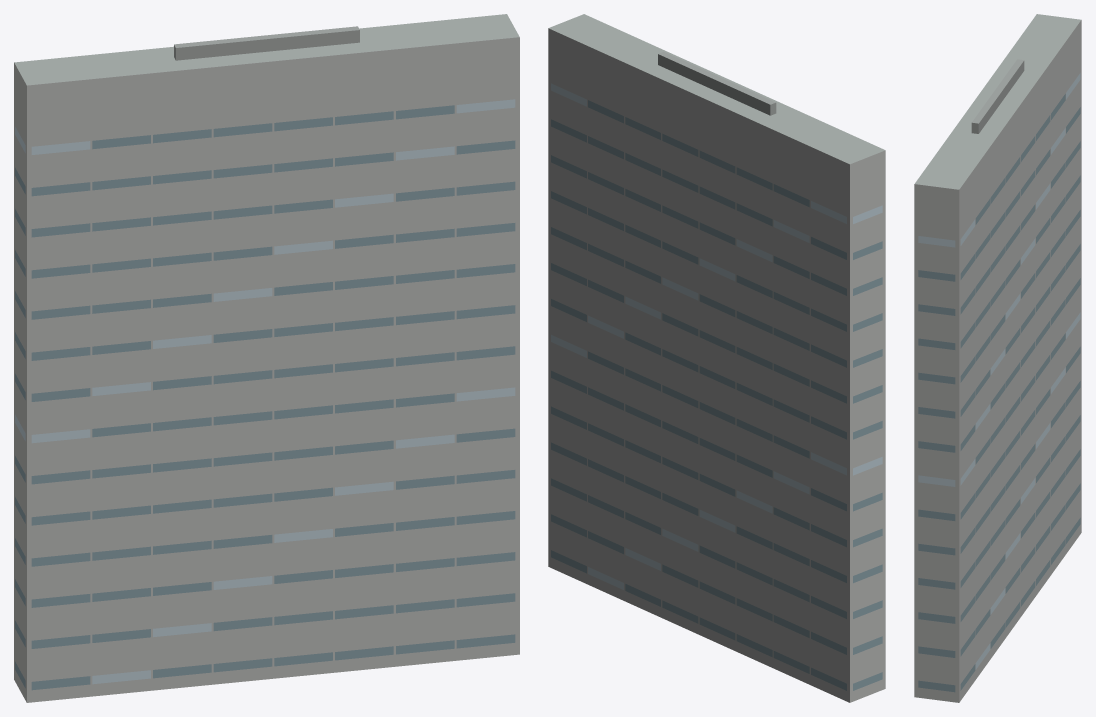
File: fallback-olympic-park-foreon-122.glb
3 views of the same model, side by side, from view 1: azimuth 30°, elevation 25°; view 2: azimuth 150°, elevation 25°; view 3: azimuth 270°, elevation 25° (orthographic). The views are drawn at different scales.
Visible parts, largest first — view 1: fallback-olympic-park-foreon-122; view 2: fallback-olympic-park-foreon-122; view 3: fallback-olympic-park-foreon-122.
Part boxes in pixels (bbox=[...]): fallback-olympic-park-foreon-122: bbox=[14, 14, 519, 702]; fallback-olympic-park-foreon-122: bbox=[548, 14, 885, 702]; fallback-olympic-park-foreon-122: bbox=[914, 14, 1081, 702].
Bounding box in the file's own units: 86.41 × 120 × 34.71.
